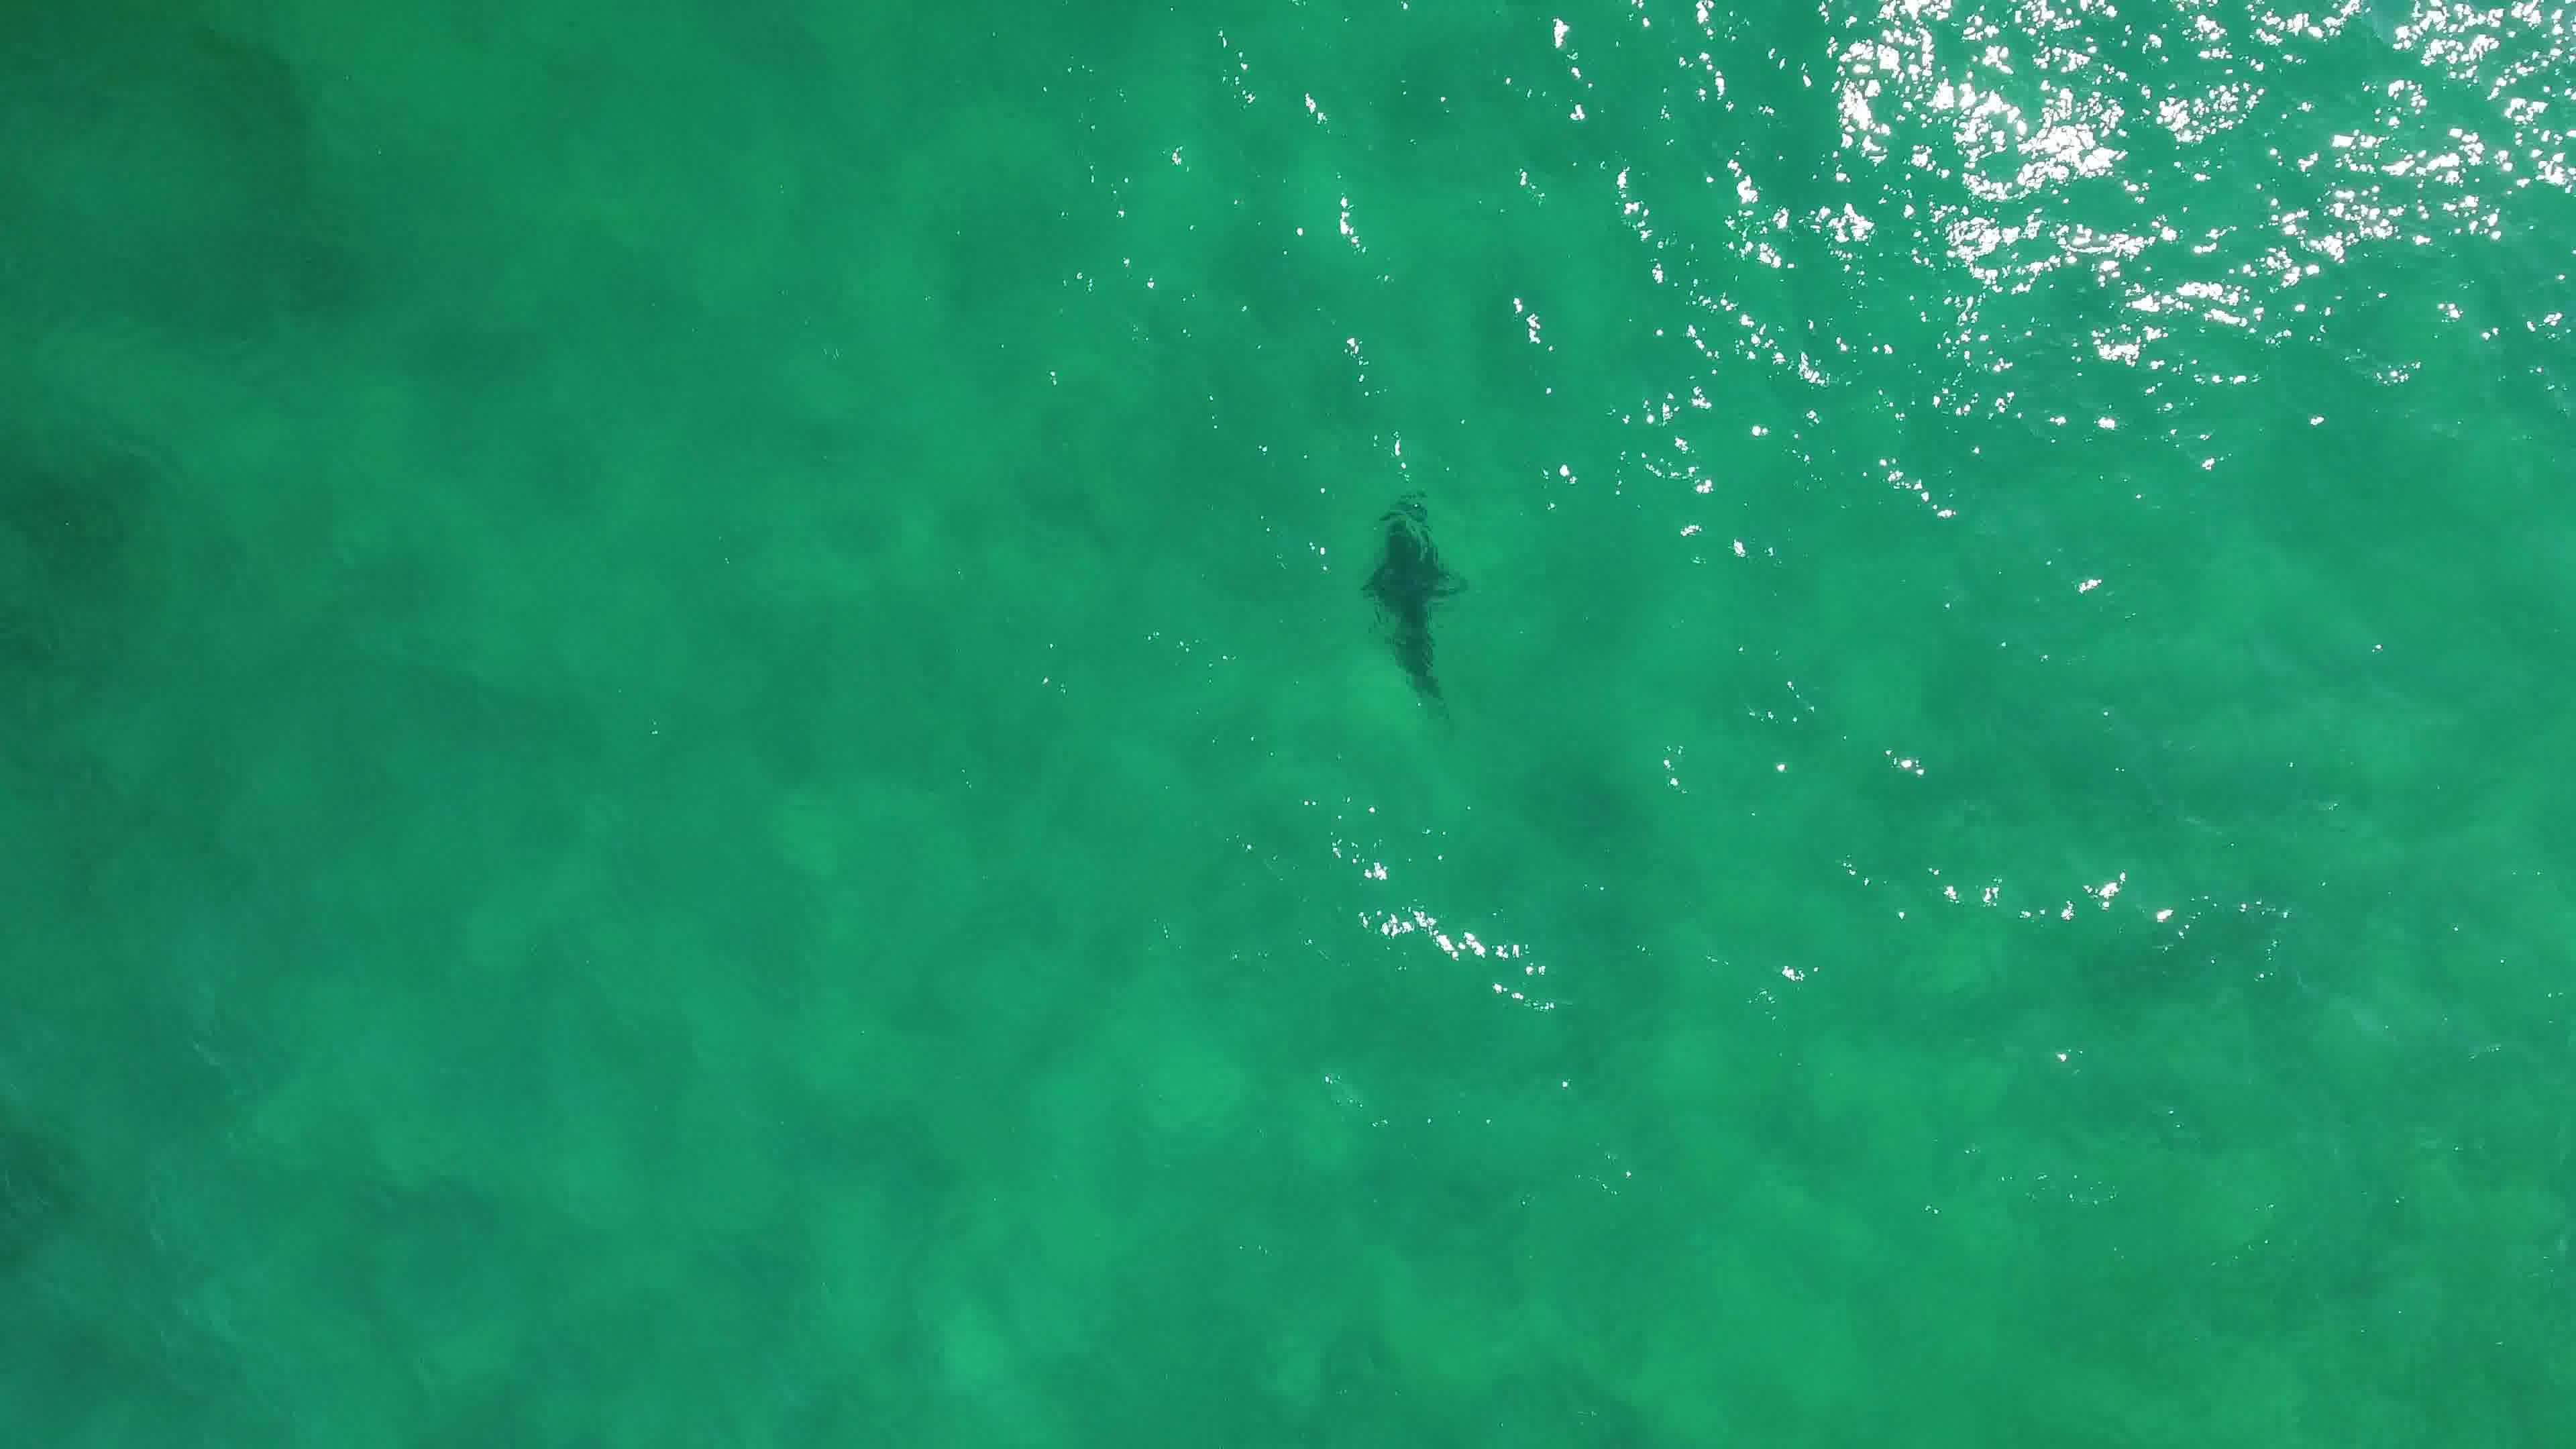shark: (1357, 485, 1472, 711)
